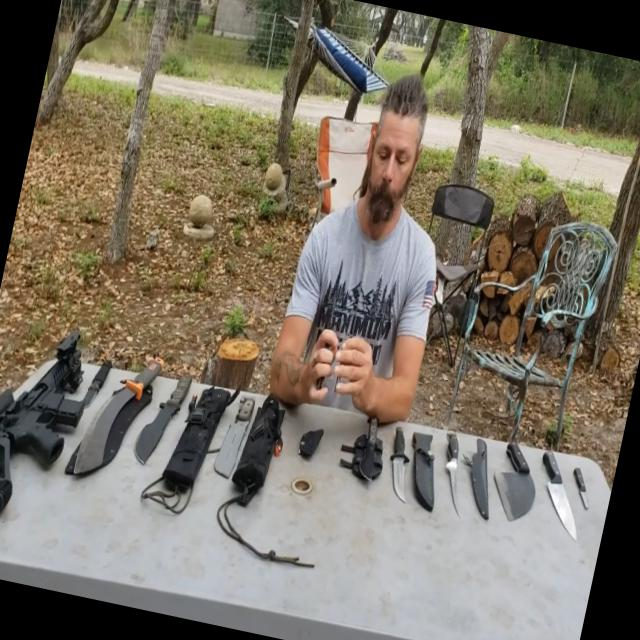knife: (71, 340, 160, 493), (296, 250, 363, 426), (128, 356, 212, 480), (476, 426, 550, 532), (528, 438, 598, 540), (423, 419, 480, 518), (211, 385, 264, 490), (372, 415, 426, 515), (337, 398, 387, 494), (74, 350, 114, 425), (564, 456, 606, 515)
long weapon: (0, 284, 119, 557)
